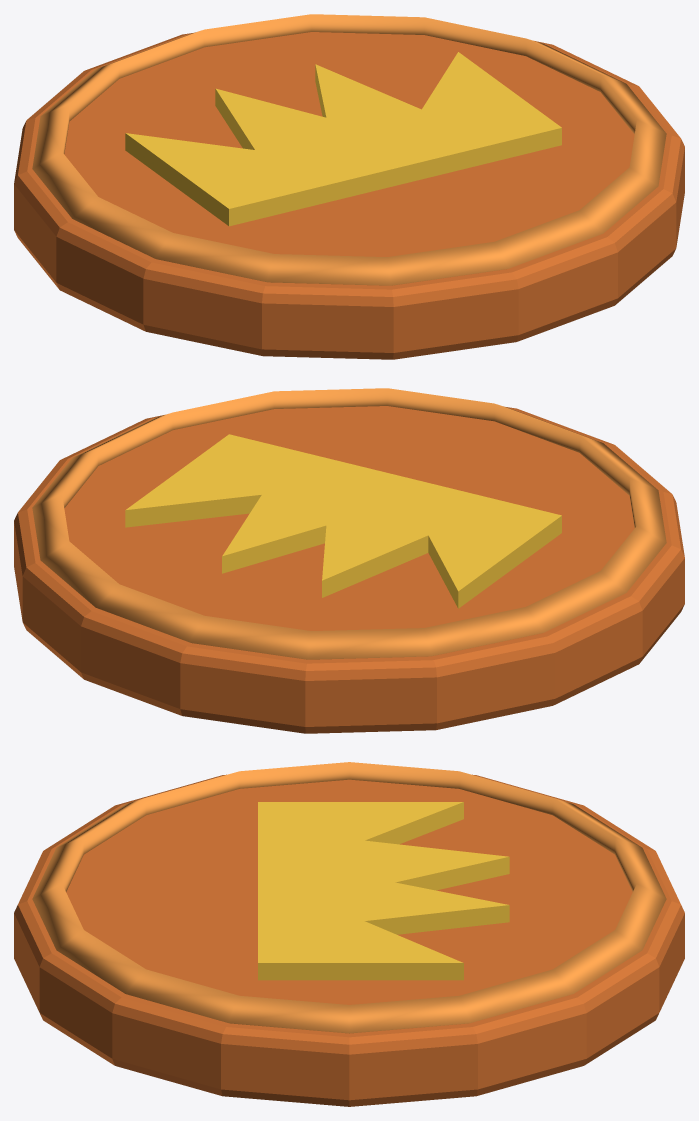
The model's file is CopperCoin.fbx.
3 views of the same model, one above another, from view 1: azimuth 30°, elevation 25°; view 2: azimuth 150°, elevation 25°; view 3: azimuth 270°, elevation 25° (orthographic).
Parts seen in each view (by area): view 1: Coin_Single_Core, Coin_Crown_Relief, Coin_Single_Rim; view 2: Coin_Single_Core, Coin_Crown_Relief, Coin_Single_Rim; view 3: Coin_Single_Core, Coin_Crown_Relief, Coin_Single_Rim.
Boxes of the visible parts, bbox=[...] form: Coin_Single_Core: bbox=[14, 32, 684, 359]; Coin_Crown_Relief: bbox=[125, 52, 561, 226]; Coin_Single_Rim: bbox=[32, 14, 666, 285]; Coin_Single_Core: bbox=[14, 406, 684, 733]; Coin_Crown_Relief: bbox=[125, 434, 561, 608]; Coin_Single_Rim: bbox=[32, 388, 666, 659]; Coin_Single_Core: bbox=[14, 774, 684, 1106]; Coin_Crown_Relief: bbox=[258, 802, 509, 980]; Coin_Single_Rim: bbox=[32, 762, 666, 1033].
Size of the model in its own units: 0.88 by 0.127 by 0.88.
